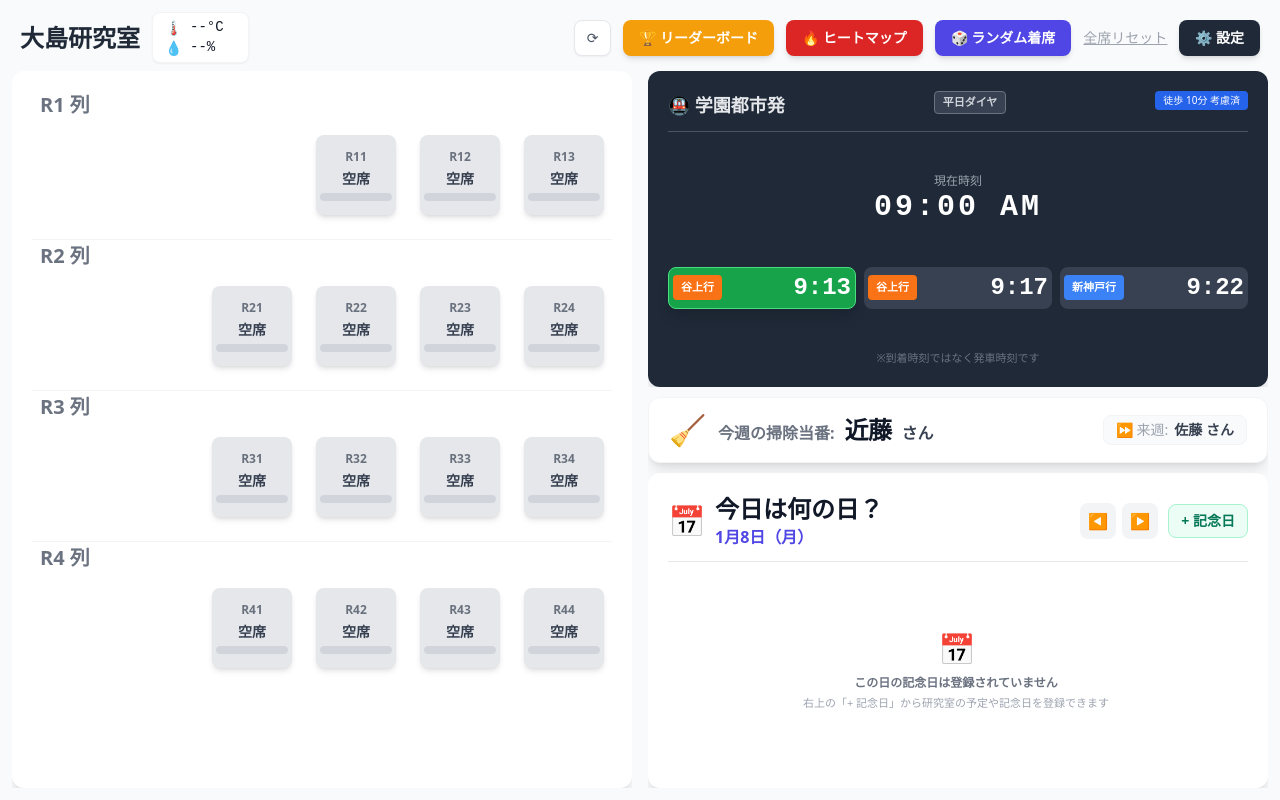
it: leaderboard modal › shows live stay time for current week without leaving
Click the text "R11" at (356, 157), box [345, 149, 367, 165]
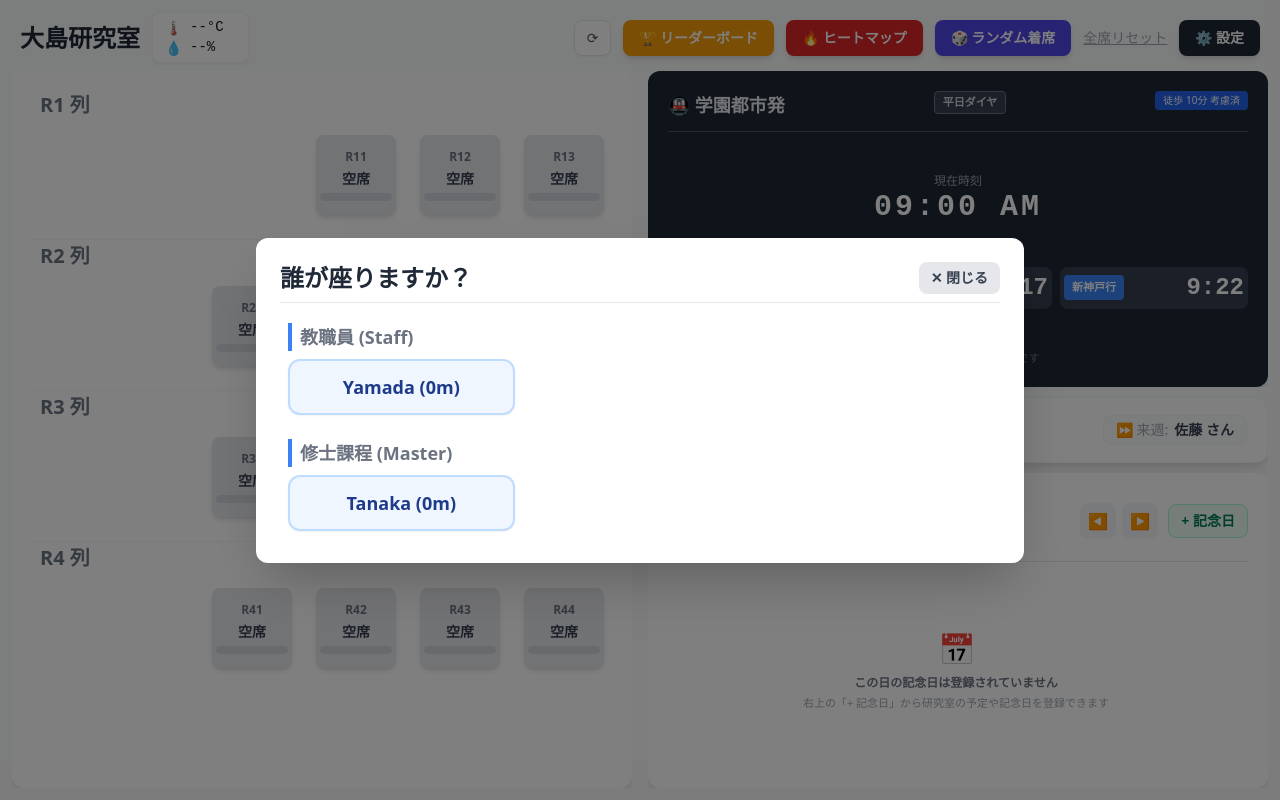
Click the button "Yamada (0m)" at (401, 386), box [288, 358, 515, 414]
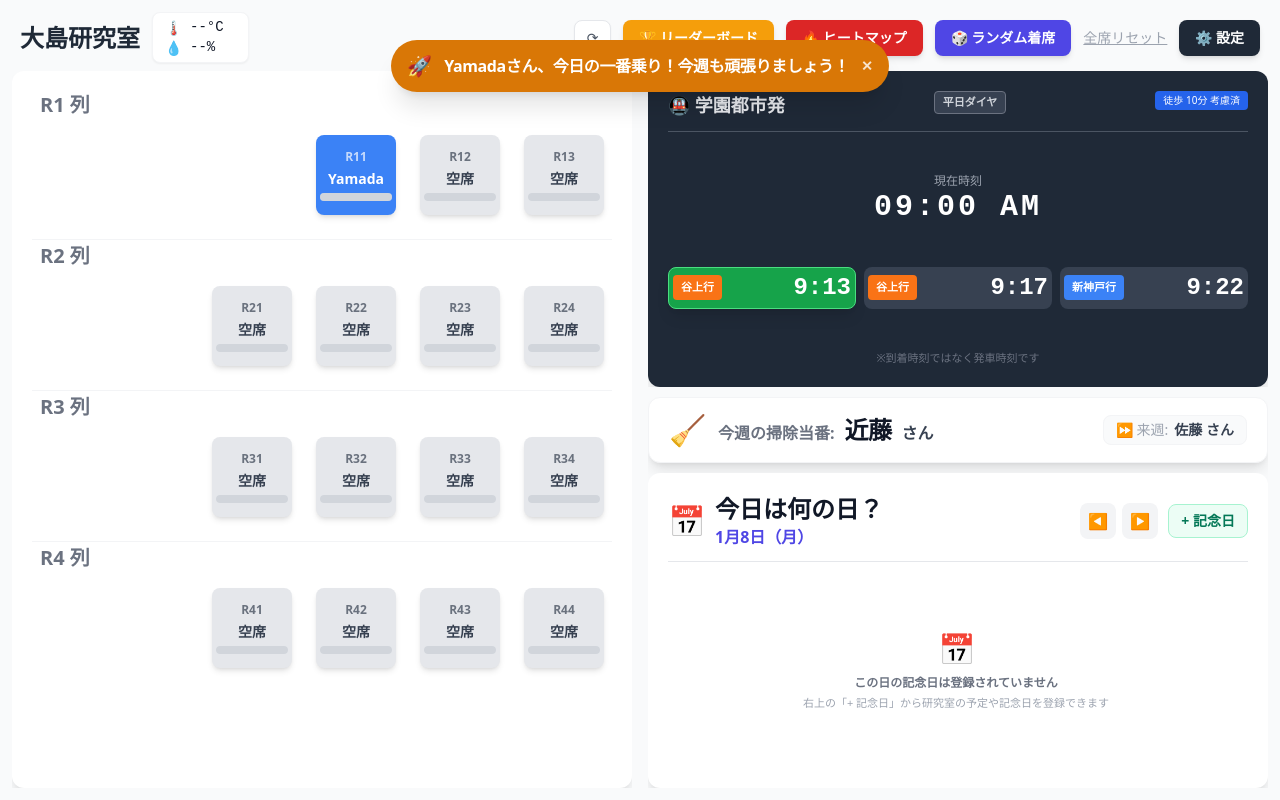
Click the button "🏆 リーダーボード" at (699, 38), box [623, 20, 774, 56]
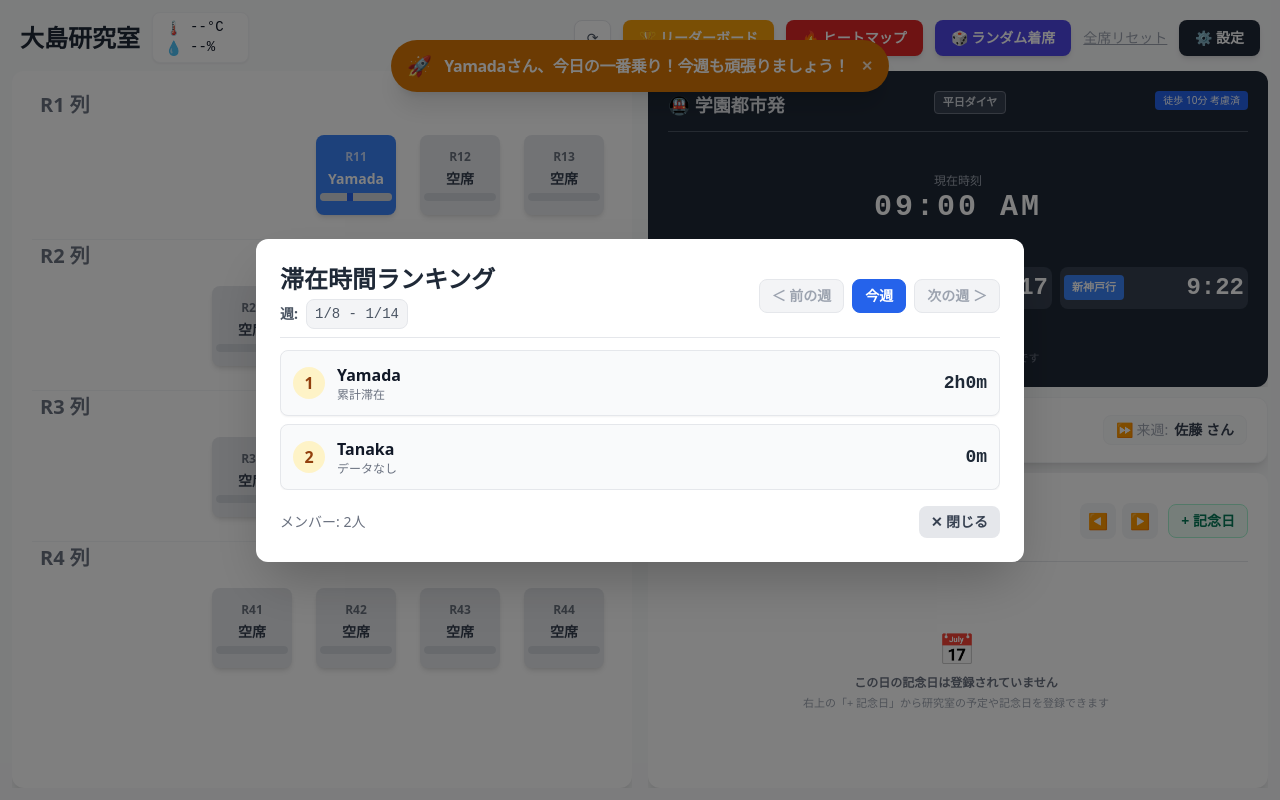
Result: the list item "1 Yamada 累計滞在 2h0m" is shown at [280, 350, 1000, 416]
